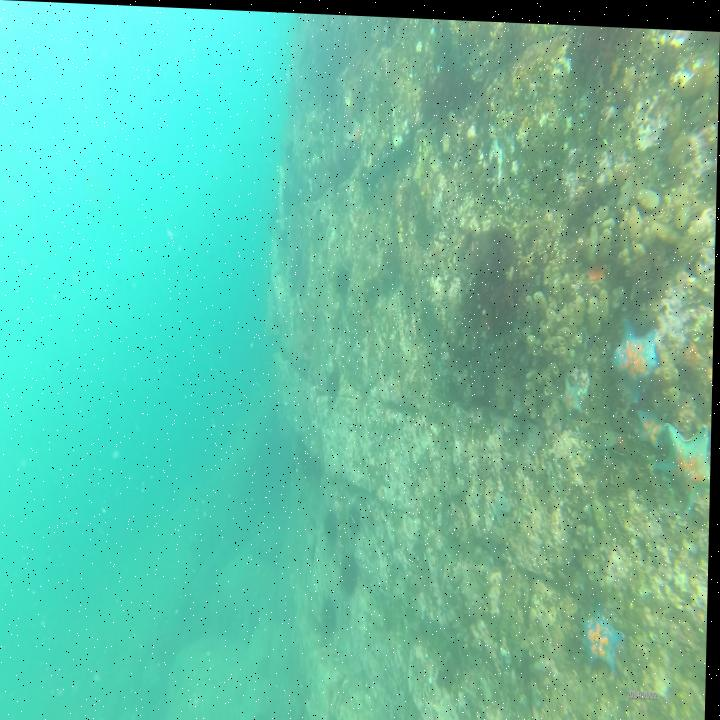echinus: (342, 547, 364, 590), (321, 593, 342, 628), (328, 363, 346, 399), (324, 504, 343, 537), (335, 263, 354, 294), (352, 503, 366, 531)
starfish: (662, 415, 713, 508), (615, 309, 660, 396), (582, 597, 630, 673), (636, 402, 669, 445), (558, 374, 591, 415)
